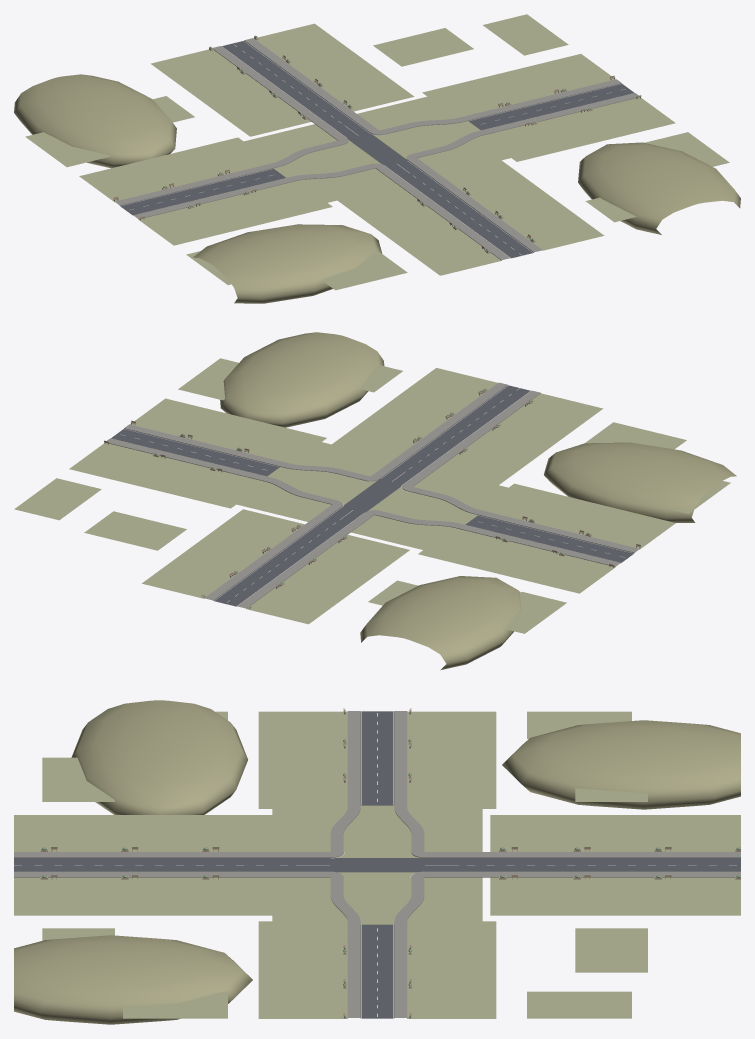
3 views of the same model, one above another, from view 1: azimuth 30°, elevation 25°; view 2: azimuth 150°, elevation 25°; view 3: azimuth 270°, elevation 25° (orthographic). The views are drawn at different scales.
Parts seen in each view (by area): view 1: static; view 2: static; view 3: static.
Part boxes in pixels (x1,y1,x2,y2): static: (14,14,740,303); static: (14,332,736,670); static: (14,700,740,1024).
Size of what is drawn, in the model's own units: 180 by 14.08 by 180.
